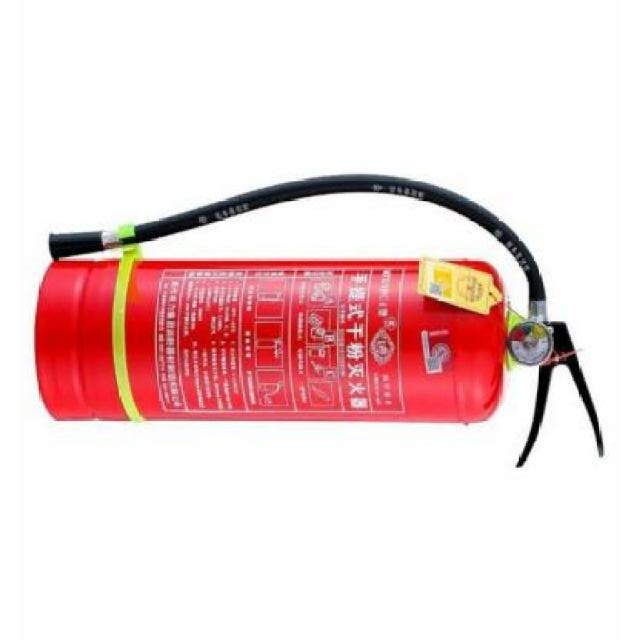fire extinguisher: (34, 175, 603, 467)
